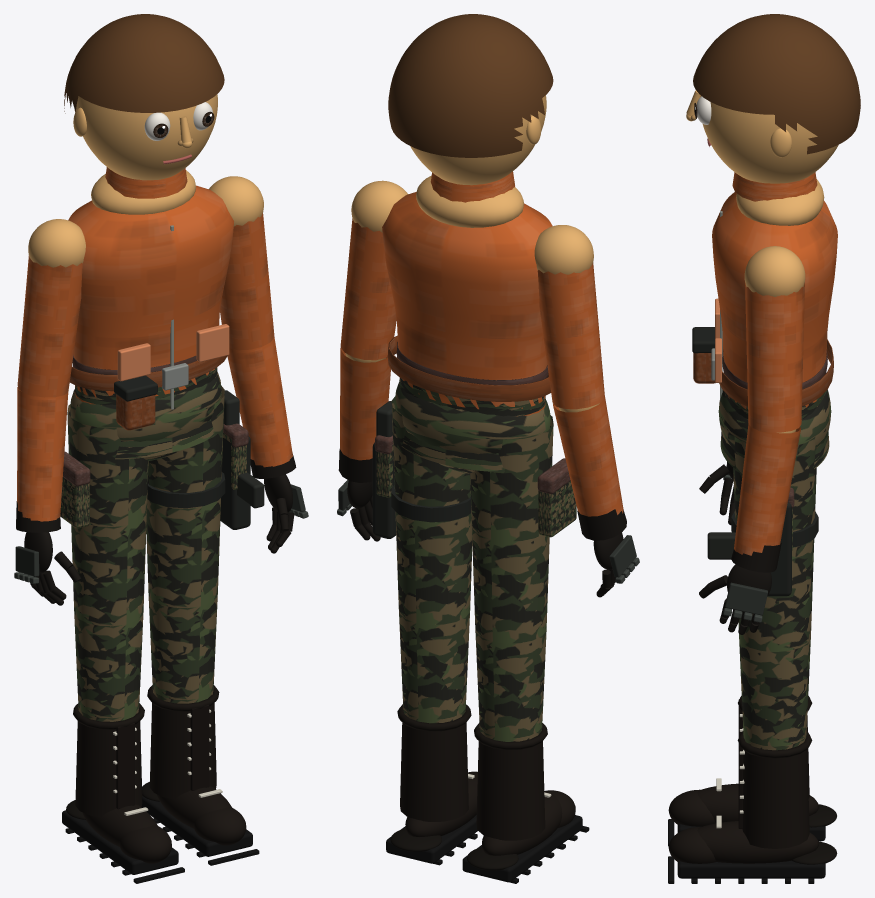
Rendered from 02-holster-de-cuisse.glb.
The picture shows the model from 3 angles, left to right: view 1: azimuth 30°, elevation 25°; view 2: azimuth 150°, elevation 25°; view 3: azimuth 270°, elevation 25°; orthographic projection. The views are drawn at different scales.
Bounding box in the file's own units: 0.6344 × 1.77 × 0.3715.
Materials: 29 (5 with a texture image).
